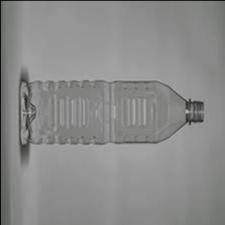bottle: (18, 75, 206, 148)
